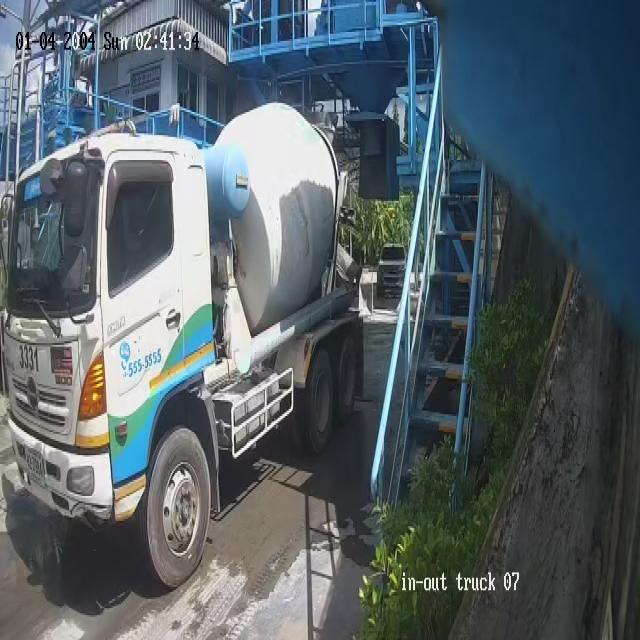cement_mixer_truck: (0, 103, 362, 588)
